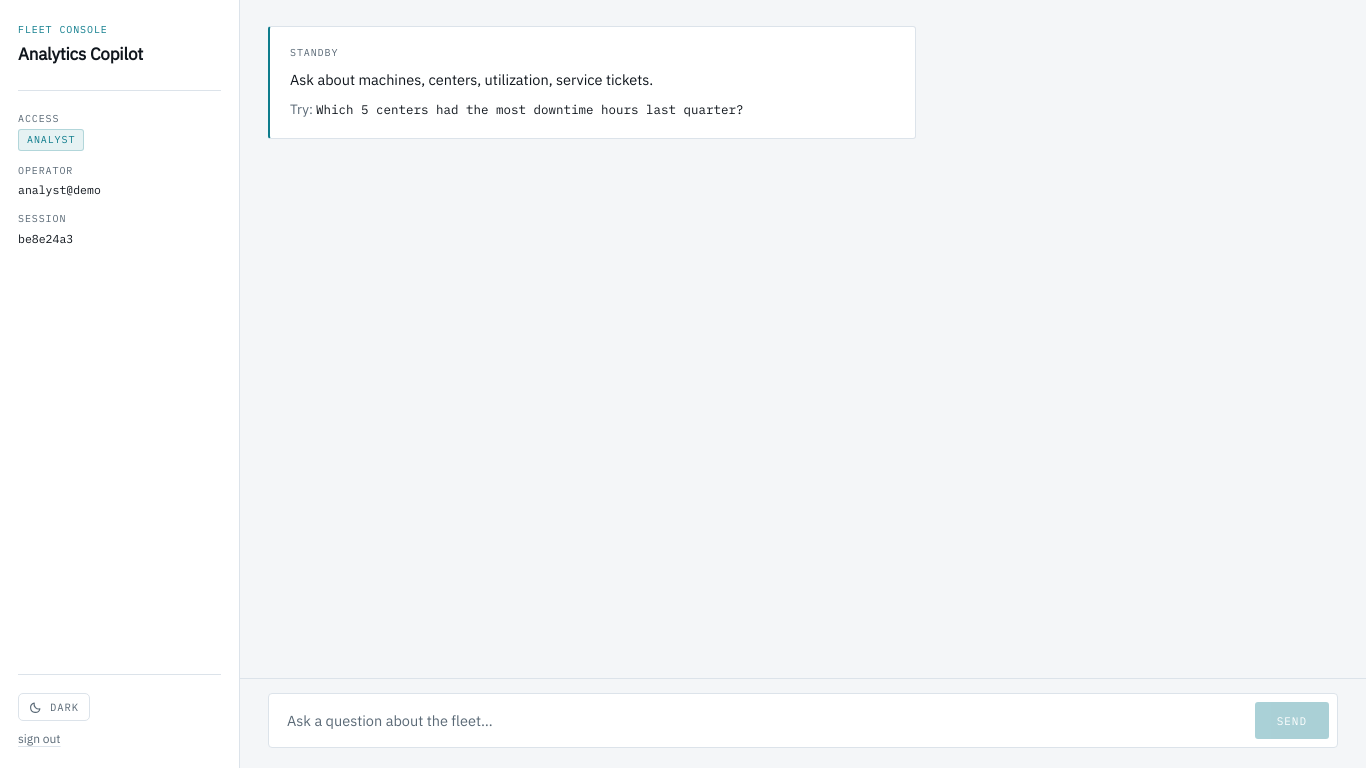
Test case: thumbs-up feedback posts to /feedback once and shows the recorded state
Type "how many machines are online" into the field with placeholder "Ask a question about the fleet…" at x=761, y=720, box [277,702,1245,739]
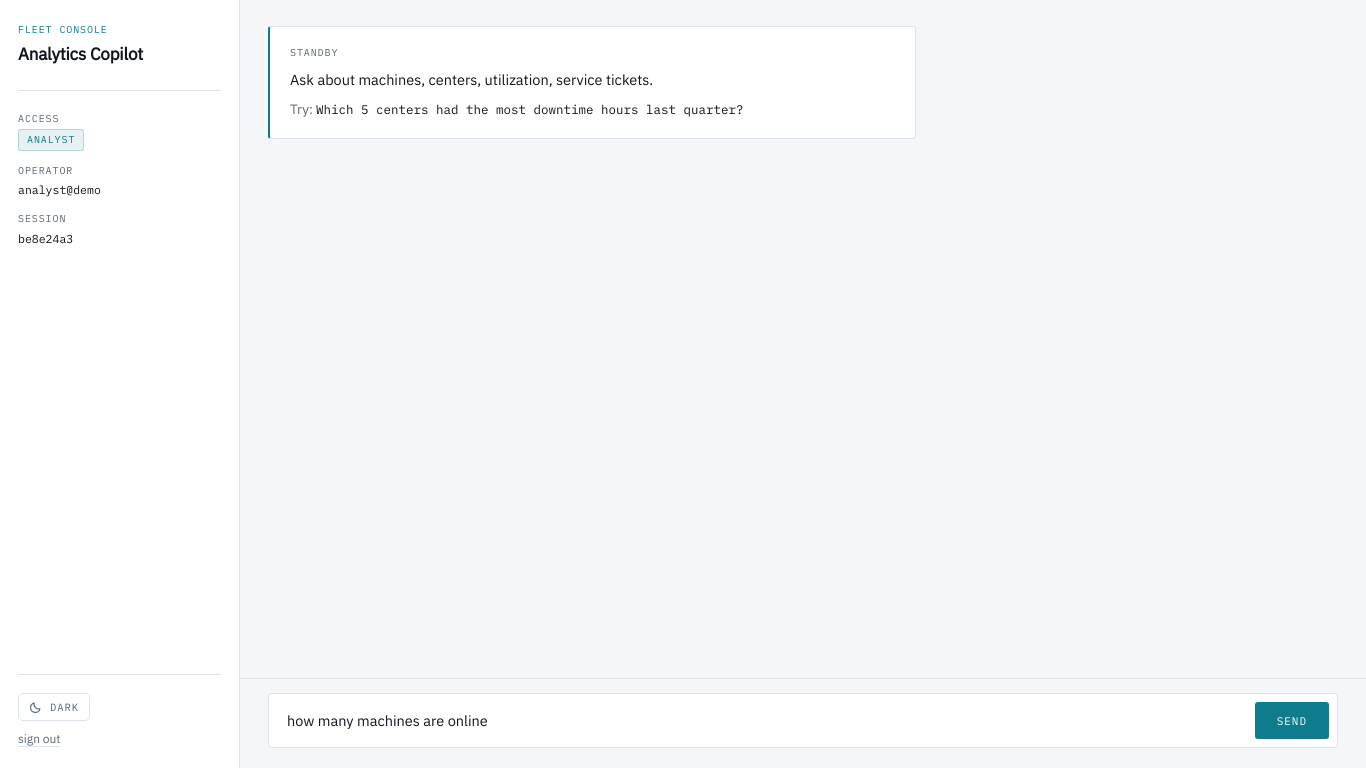
Click the button "Send" at x=1292, y=720, box [1255,702,1329,739]
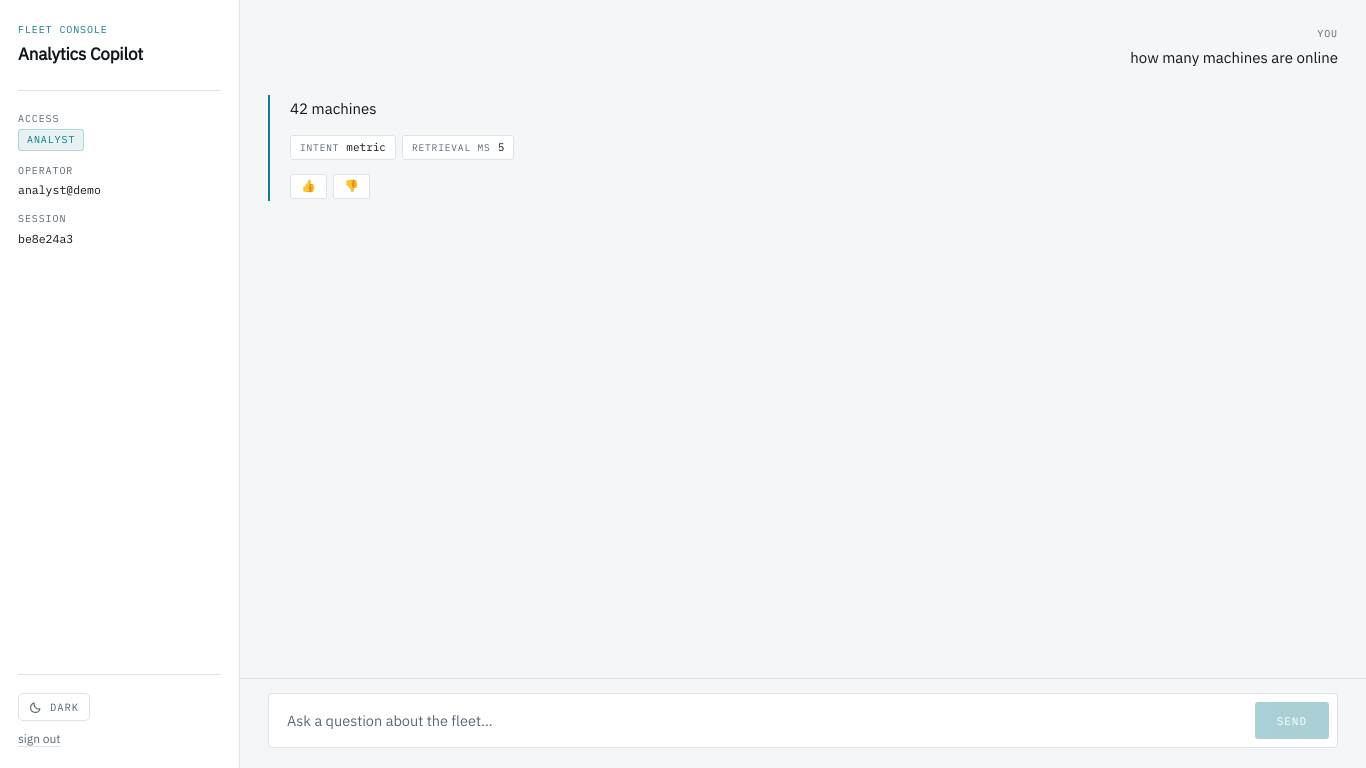
Now the text "42 machines" is shown, box [290,99,376,118]
Click the button "👍" at x=308, y=186, box [290,174,327,199]
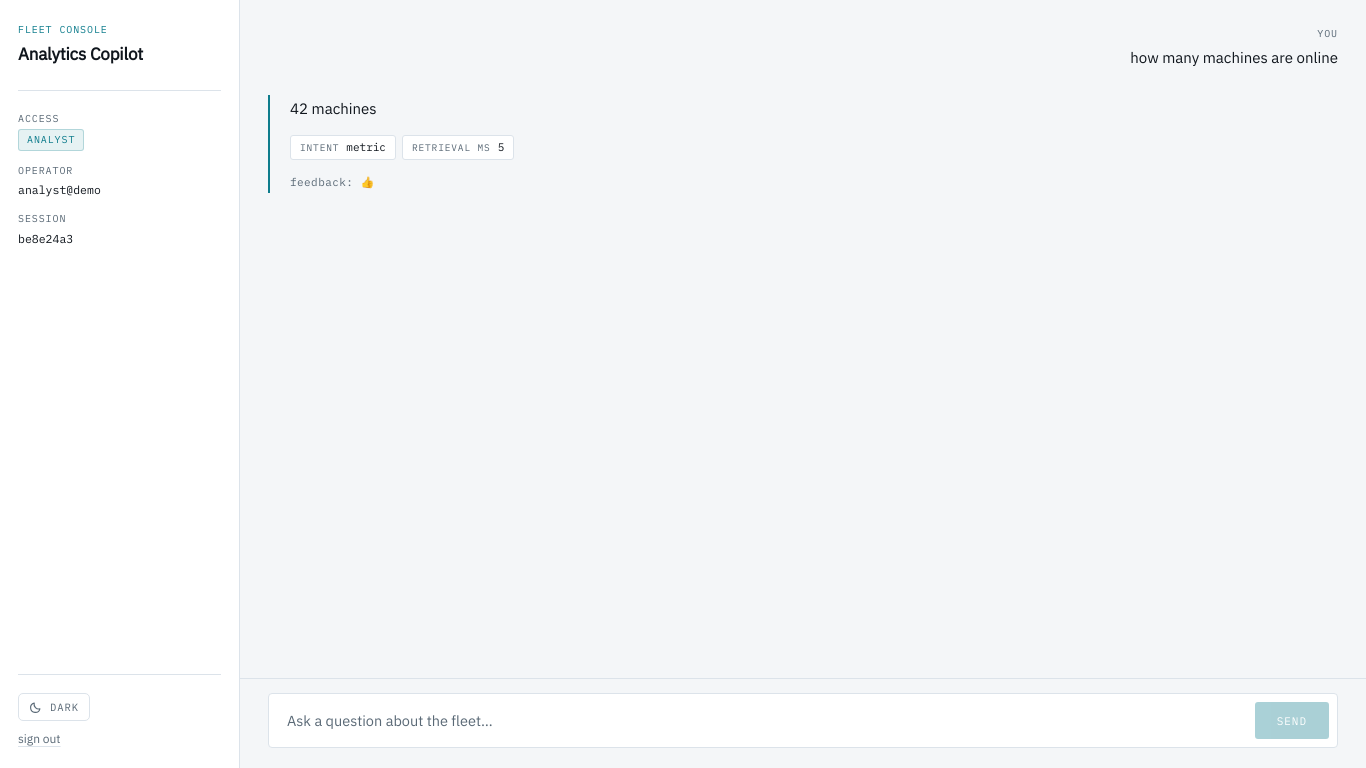
Now the text "feedback: 👍" is shown, box [290,174,375,191]
